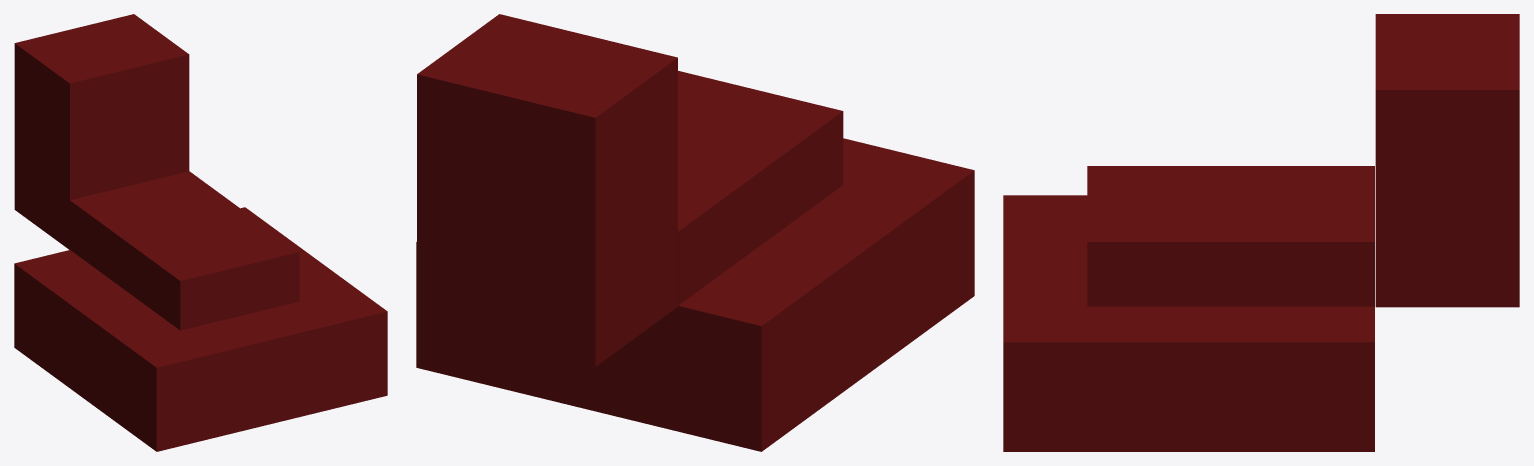
File: red_truck_target.dae
3 renders of one model, left to right at view 1: azimuth 30°, elevation 25°; view 2: azimuth 150°, elevation 25°; view 3: azimuth 270°, elevation 25°, orthographic. The views are drawn at different scales.
Parts seen in each view (by area): view 1: Cube_101; view 2: Cube_101; view 3: Cube_101.
Boxes of the visible parts, left/top/right/bottom form: Cube_101: left=14, top=14, right=387, bottom=451; Cube_101: left=416, top=14, right=974, bottom=451; Cube_101: left=1003, top=14, right=1519, bottom=451.
Size of the model in its own units: 0.29 by 0.4304 by 0.3005.
